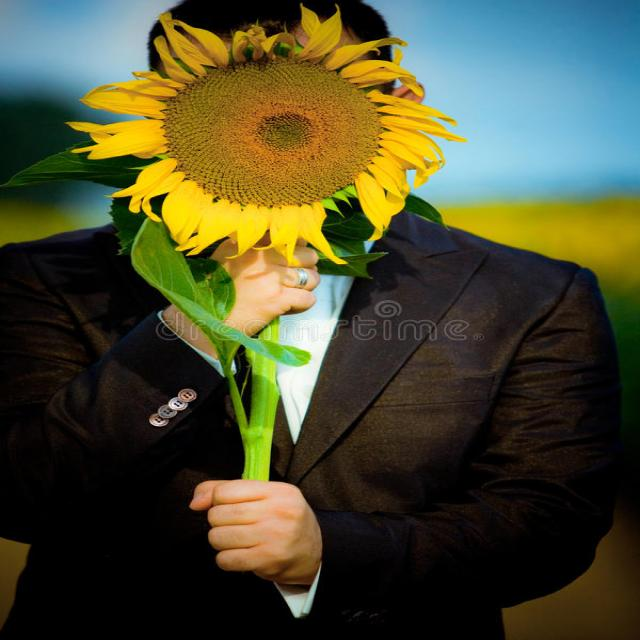sunflower: (93, 0, 456, 272)
